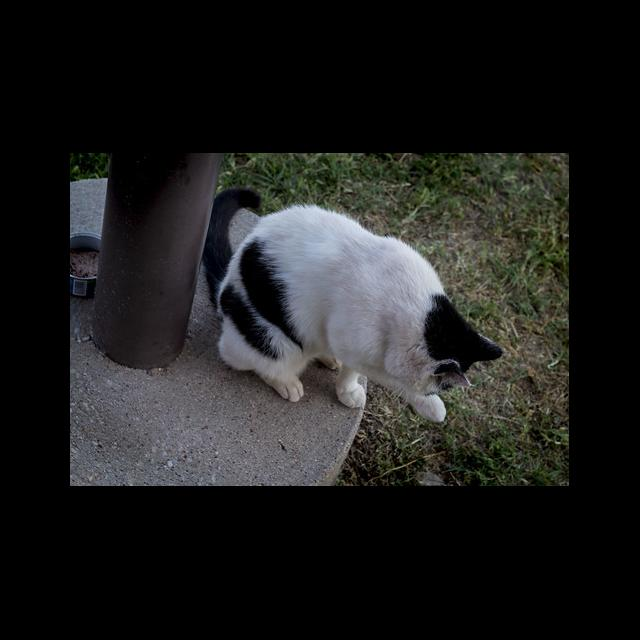animals: (201, 188, 503, 424)
